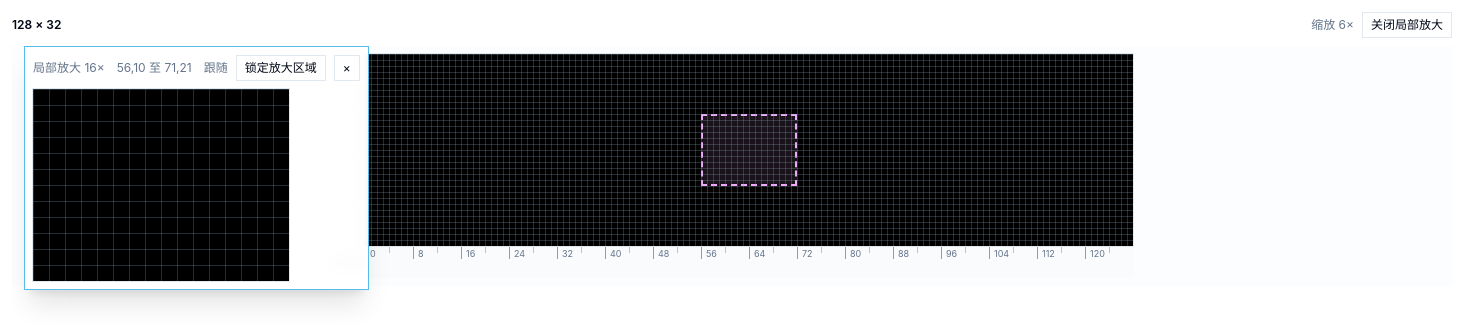
Test: maps a magnifier click to the shared full-canvas coordinate and can hide the panel
Press the mouse on the picture named "局部放大像素画布" at (161, 185), box [33, 89, 289, 281]
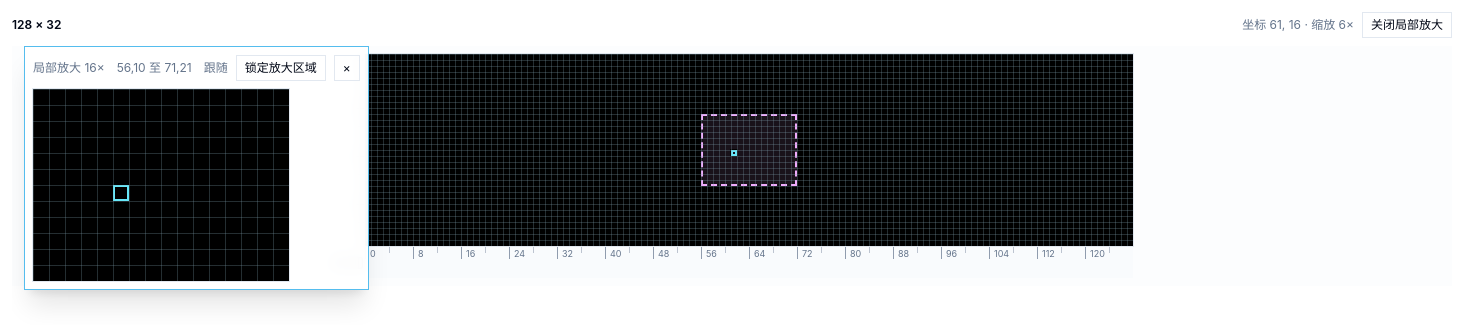
Click the button named "关闭局部放大浮窗" at (347, 68), box [334, 55, 360, 81]
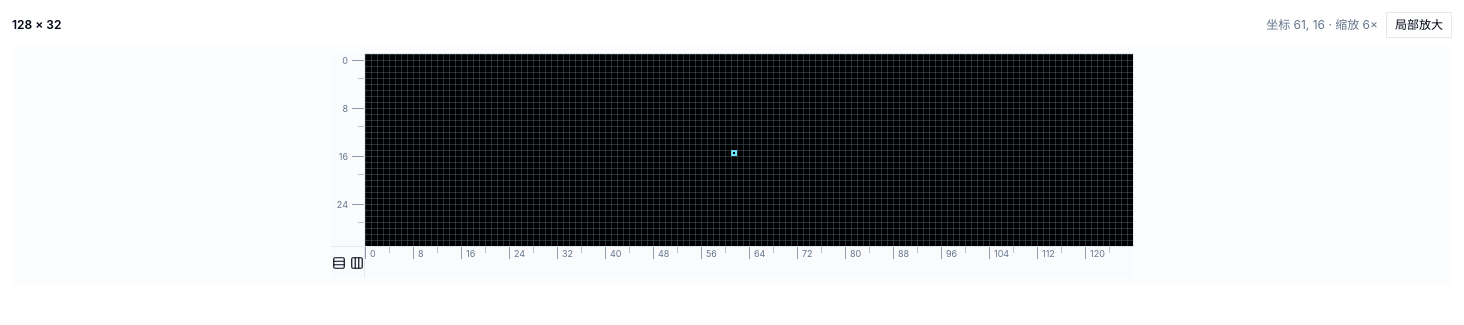
Now the picture "局部放大像素画布" is gone
